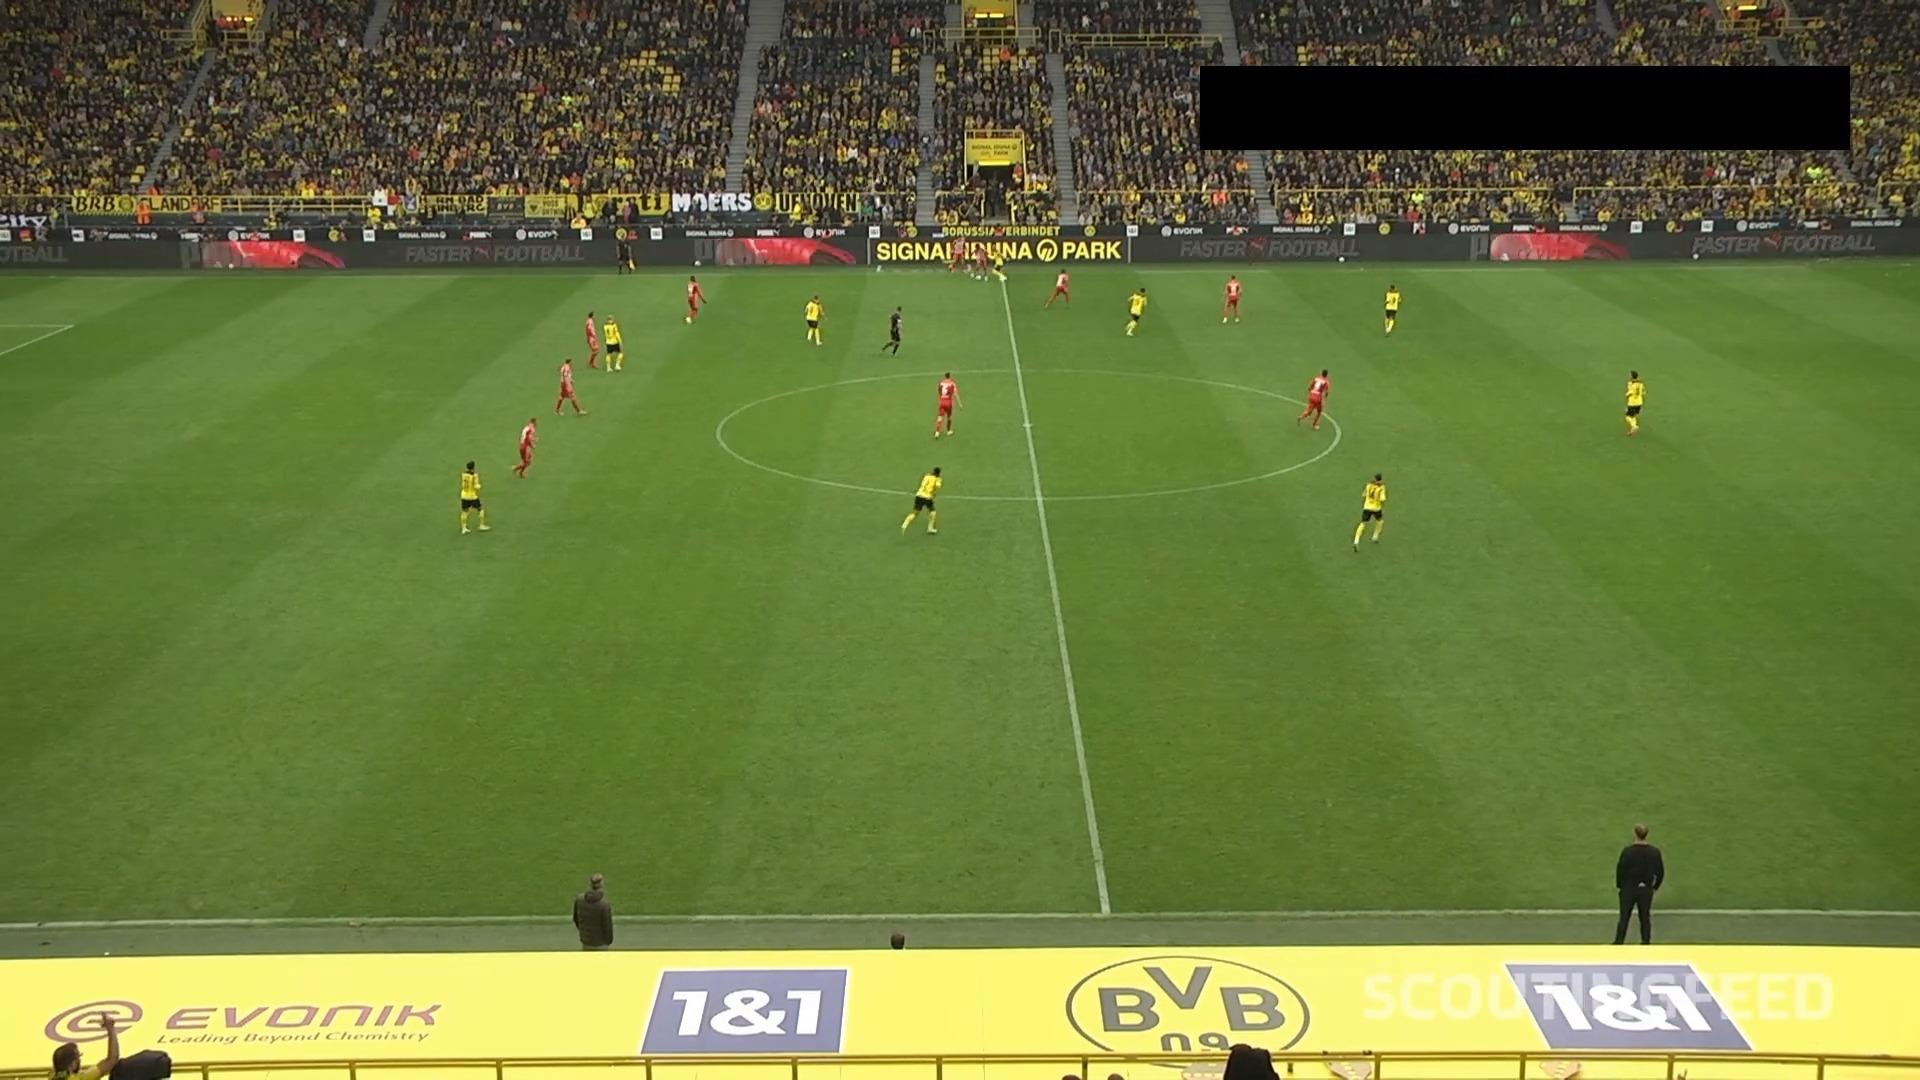ball: (975, 273, 982, 282)
